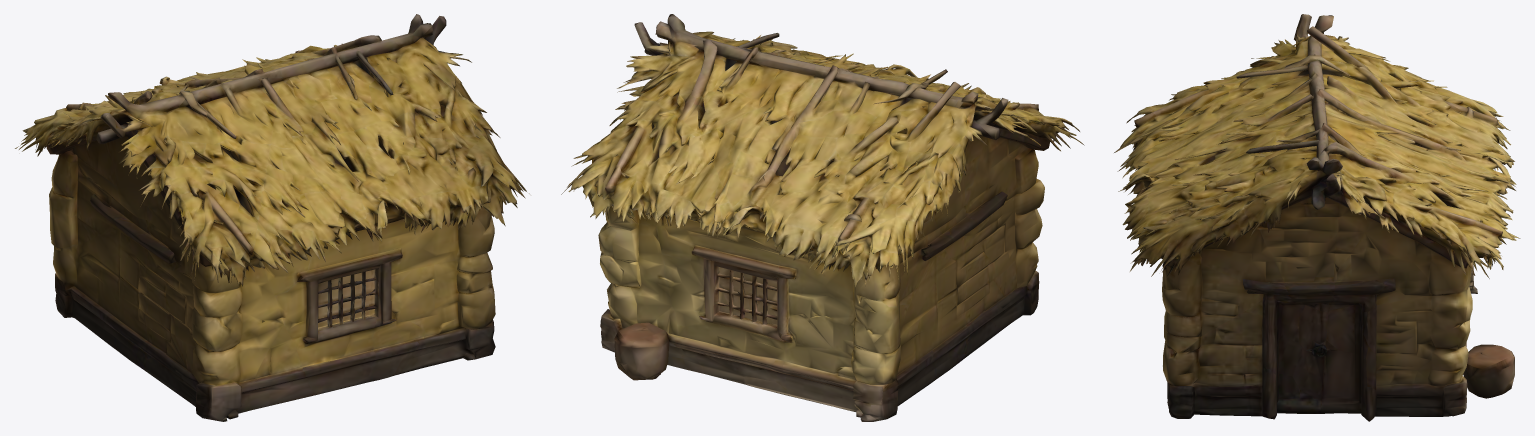
File: hut-low.glb
The picture shows the model from 3 angles, left to right: view 1: azimuth 30°, elevation 25°; view 2: azimuth 150°, elevation 25°; view 3: azimuth 270°, elevation 25°; orthographic projection. The views are drawn at different scales.
Bounding box in the file's own units: 0.9811 × 0.7166 × 0.9981.
1 material, 1 textured.
